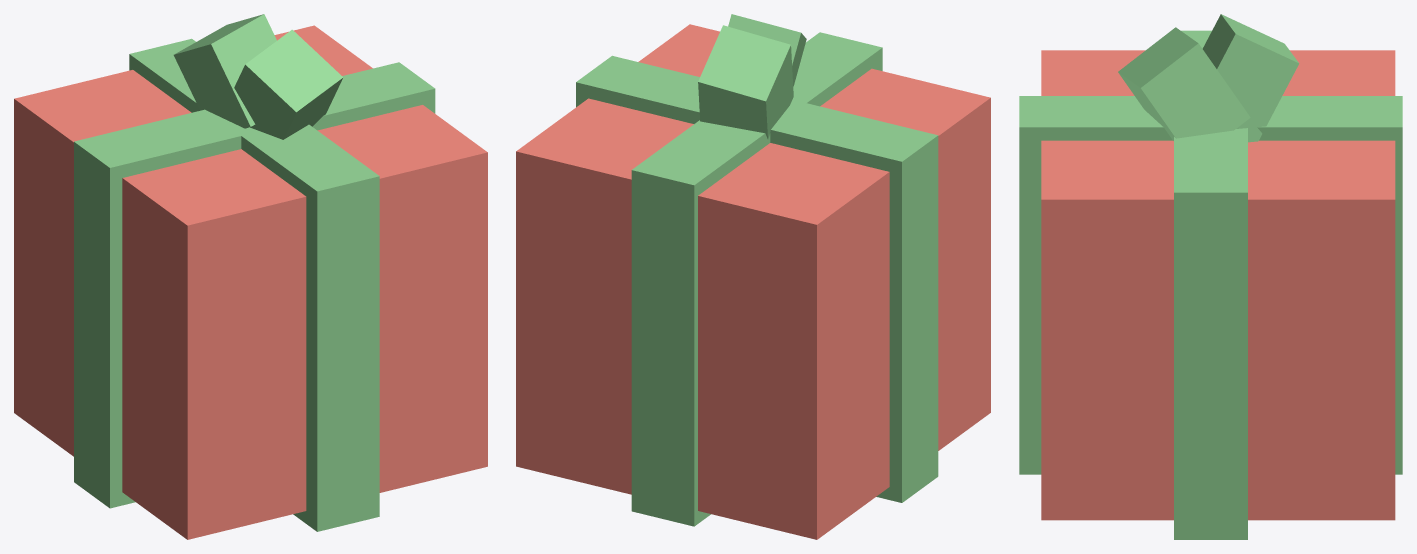
File: gift1.glb
3 renders of one model, left to right at view 1: azimuth 30°, elevation 25°; view 2: azimuth 150°, elevation 25°; view 3: azimuth 270°, elevation 25°, orthographic. The views are drawn at different scales.
Visible parts, largest first — view 1: group574743690, group1430080540, group2140092558, group273611730, group89207905; view 2: group574743690, group1430080540, group2140092558, group89207905, group273611730; view 3: group574743690, group2140092558, group1430080540, group273611730, group89207905.
Boxes of the visible parts, x1,y1,x2,y2 form: group574743690: (14,25,487,539); group1430080540: (129,38,379,531); group2140092558: (74,62,435,508); group273611730: (234,29,343,139); group89207905: (173,14,276,128); group574743690: (516,24,990,539); group1430080540: (631,32,882,526); group2140092558: (576,55,938,502); group89207905: (698,25,793,139); group273611730: (728,14,806,86); group574743690: (1041,50,1395,520); group2140092558: (1174,30,1247,539); group1430080540: (1019,96,1402,474); group273611730: (1118,27,1250,140); group89207905: (1202,14,1299,142).
Size of the model in its own units: 0.26 by 0.3264 by 0.26.
